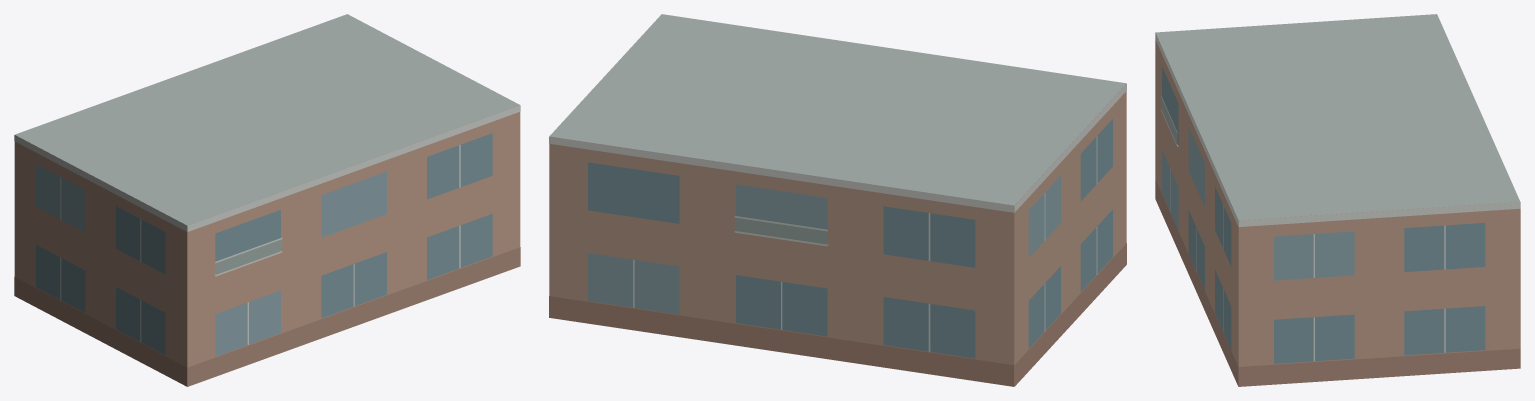
Rendered from survey-upis-32616208.glb.
The picture shows the model from 3 angles, left to right: view 1: azimuth 30°, elevation 25°; view 2: azimuth 150°, elevation 25°; view 3: azimuth 270°, elevation 25°; orthographic projection. The views are drawn at different scales.
Visible parts, largest first — view 1: survey-upis-32616208.tmp; view 2: survey-upis-32616208.tmp; view 3: survey-upis-32616208.tmp.
Part boxes in pixels (left/top/right/bottom): survey-upis-32616208.tmp: left=14, top=14, right=520, bottom=386; survey-upis-32616208.tmp: left=549, top=14, right=1126, bottom=386; survey-upis-32616208.tmp: left=1155, top=14, right=1520, bottom=386.
Bounding box in the file's own units: 16.24 × 6.1 × 12.14.
